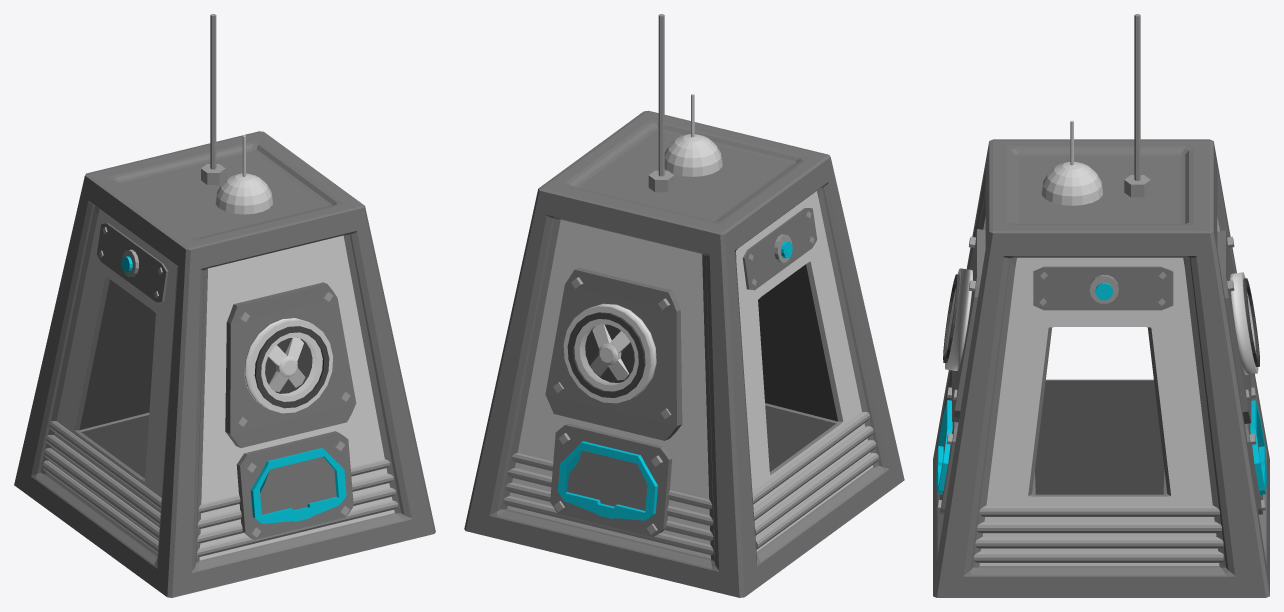
File: Factory_Structure_Main.fbx
3 views of the same model, side by side, from view 1: azimuth 30°, elevation 25°; view 2: azimuth 150°, elevation 25°; view 3: azimuth 270°, elevation 25° (orthographic). The views are drawn at different scales.
Visible parts, largest first — view 1: Factory Structure Main; view 2: Factory Structure Main; view 3: Factory Structure Main.
Part boxes in pixels (x1,y1,x2,y2): Factory Structure Main: [14, 14, 435, 597]; Factory Structure Main: [464, 14, 904, 597]; Factory Structure Main: [933, 14, 1269, 597].
Bounding box in the file's own units: 1233 × 2105 × 1247.
